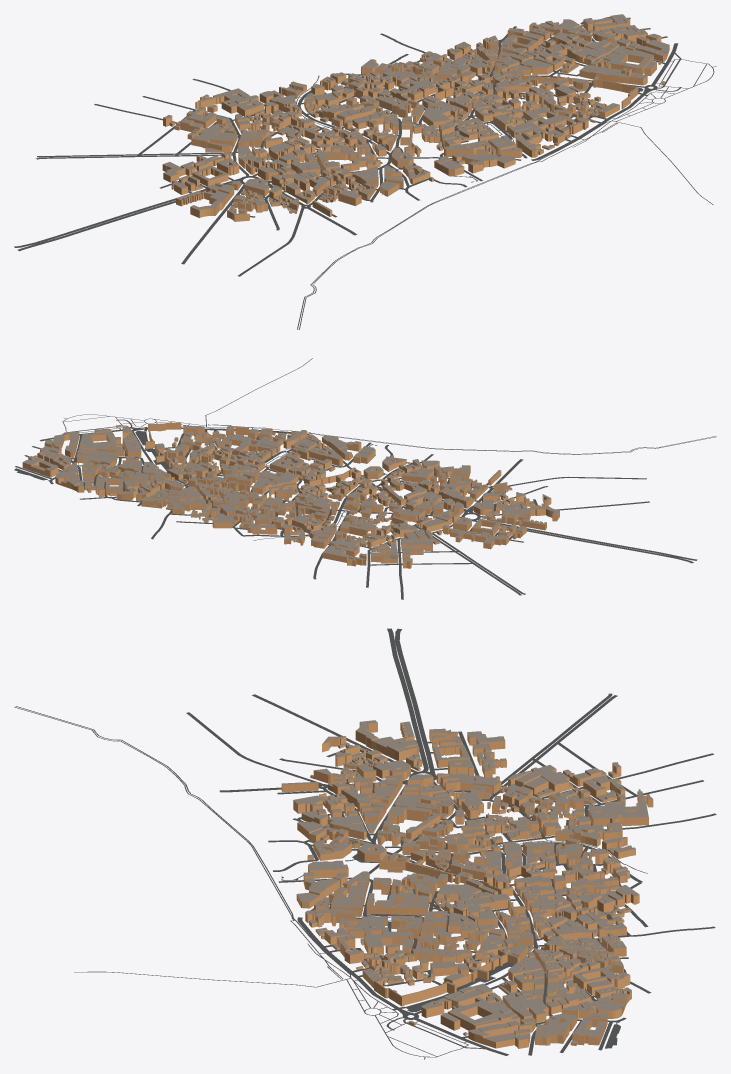
Rendered from map 1.fbx.
3 views of the same model, one above another, from view 1: azimuth 30°, elevation 25°; view 2: azimuth 150°, elevation 25°; view 3: azimuth 270°, elevation 25° (orthographic). The views are drawn at different scales.
Parts seen in each view (by area): view 1: map_6.osm_buildings, map_7.osm_buildings, map_6.osm_roads_residential, map_6.osm_paths_footway, map_6.osm_roads_primary, map_7.osm_roads_primary, map_6.osm_roads_tertiary; view 2: map_6.osm_buildings, map_7.osm_buildings, map_6.osm_roads_residential, map_6.osm_paths_footway, map_7.osm_roads_primary, map_6.osm_roads_primary, map_6.osm_roads_tertiary, map_6.osm_paths_cycleway, map_6.osm_areas_pedestrian; view 3: map_6.osm_buildings, map_7.osm_buildings, map_6.osm_roads_residential, map_6.osm_paths_footway, map_7.osm_roads_primary, map_6.osm_roads_primary, map_6.osm_roads_tertiary, map_6.osm_areas_pedestrian.
Part boxes in pixels (<box>): map_6.osm_buildings: <box>163,14,669,216</box>; map_7.osm_buildings: <box>162,137,355,221</box>; map_6.osm_roads_residential: <box>94,17,667,276</box>; map_6.osm_paths_footway: <box>296,23,716,329</box>; map_6.osm_roads_primary: <box>241,43,678,235</box>; map_7.osm_roads_primary: <box>14,178,244,251</box>; map_6.osm_roads_tertiary: <box>36,152,233,159</box>; map_6.osm_buildings: <box>22,422,512,568</box>; map_7.osm_buildings: <box>381,475,559,549</box>; map_6.osm_roads_residential: <box>15,429,646,599</box>; map_6.osm_paths_footway: <box>47,358,715,540</box>; map_7.osm_roads_primary: <box>472,516,697,563</box>; map_6.osm_roads_primary: <box>40,427,523,517</box>; map_6.osm_roads_tertiary: <box>432,533,525,595</box>; map_6.osm_paths_cycleway: <box>212,428,716,454</box>; map_6.osm_areas_pedestrian: <box>14,431,385,480</box>; map_6.osm_buildings: <box>281,762,653,1048</box>; map_7.osm_buildings: <box>322,720,508,824</box>; map_6.osm_roads_residential: <box>186,712,716,1055</box>; map_6.osm_paths_footway: <box>14,707,647,1059</box>; map_7.osm_roads_primary: <box>387,628,435,774</box>; map_6.osm_roads_primary: <box>219,772,508,1055</box>; map_6.osm_roads_tertiary: <box>501,693,617,786</box>; map_6.osm_areas_pedestrian: <box>281,854,620,1048</box>.
Bounding box in the file's own units: 188635 × 2161 × 130012.
